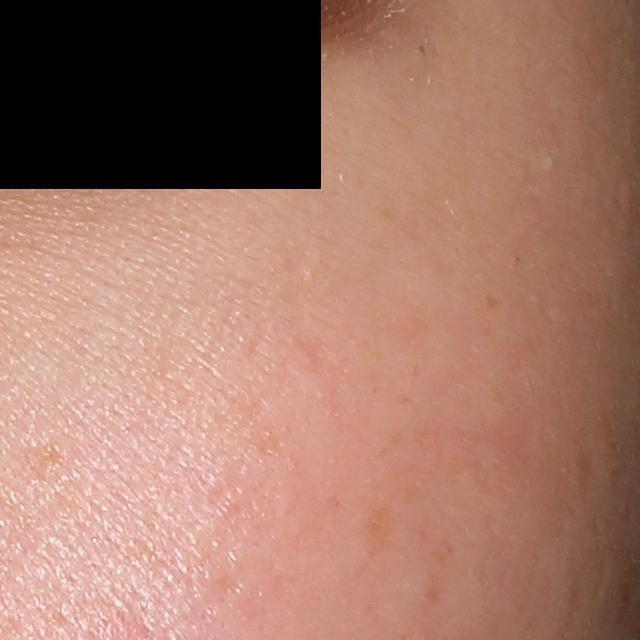melasma: (359, 500, 400, 559)
